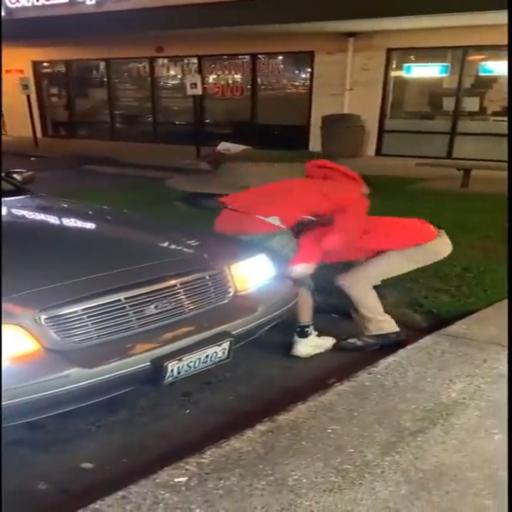violencia: (184, 144, 466, 362)
